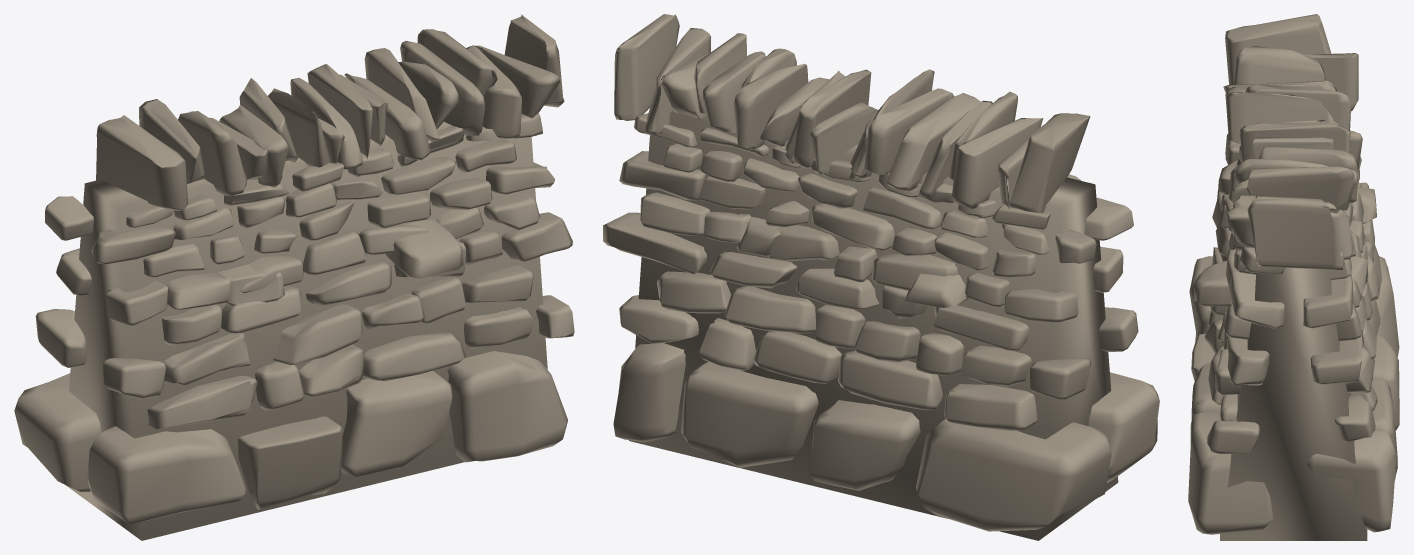
File: boundary.dry_stone.wall_f.glb
The picture shows the model from 3 angles, left to right: view 1: azimuth 30°, elevation 25°; view 2: azimuth 150°, elevation 25°; view 3: azimuth 270°, elevation 25°; orthographic projection. The views are drawn at different scales.
Visible parts, largest first — view 1: main__stone_a98; view 2: main__stone_a98; view 3: main__stone_a98.
Boxes of the visible parts, left/top/right/bottom form: main__stone_a98: left=14, top=14, right=574, bottom=540; main__stone_a98: left=603, top=14, right=1159, bottom=540; main__stone_a98: left=1188, top=14, right=1399, bottom=540.
Bounding box in the file's own units: 2.32 × 1.75 × 0.9474.
